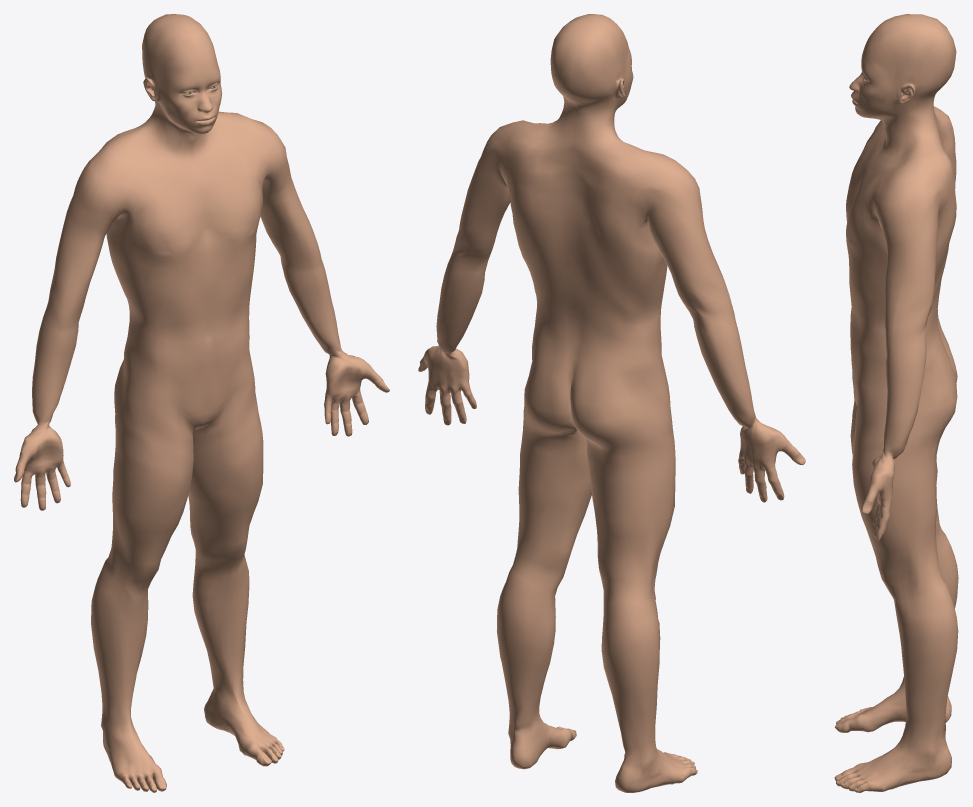
Rendered from mh-skin-male.glb.
The picture shows the model from 3 angles, left to right: view 1: azimuth 30°, elevation 25°; view 2: azimuth 150°, elevation 25°; view 3: azimuth 270°, elevation 25°; orthographic projection. The views are drawn at different scales.
Parts seen in each view (by area): view 1: skin_body_male; view 2: skin_body_male; view 3: skin_body_male.
Boxes of the visible parts, bbox=[...] form: skin_body_male: bbox=[14, 14, 389, 792]; skin_body_male: bbox=[418, 14, 805, 792]; skin_body_male: bbox=[834, 14, 958, 792].
Size of the model in its own units: 0.8837 by 1.66 by 0.252.
